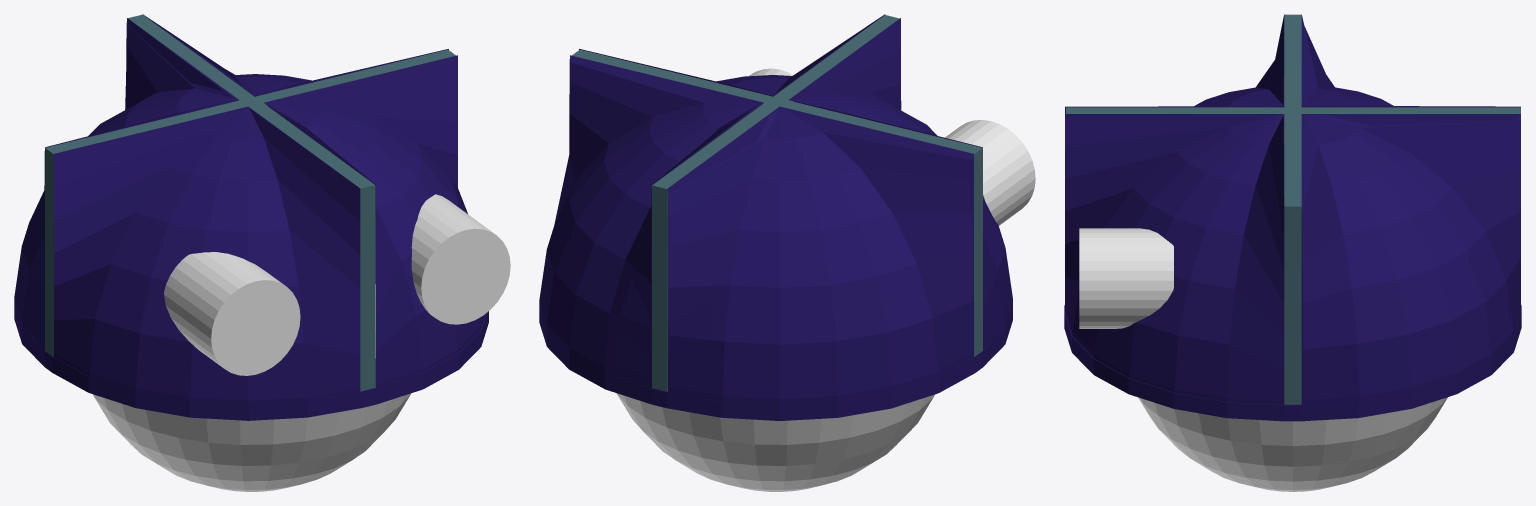
The model's file is tutorialFaceProp.fbx.
3 views of the same model, side by side, from view 1: azimuth 30°, elevation 25°; view 2: azimuth 150°, elevation 25°; view 3: azimuth 270°, elevation 25° (orthographic). The views are drawn at different scales.
Visible parts, largest first — view 1: MaskFace, Cylinder.001, Sphere, Cube.001, Cube; view 2: MaskFace, Sphere, Cube.001, Cylinder.001, Cube; view 3: MaskFace, Sphere, Cube.001, Cylinder.001, Cube.
Boxes of the visible parts, box(x1,y1,x2,y2) form: MaskFace: box(14, 14, 485, 420); Cylinder.001: box(164, 194, 510, 375); Sphere: box(93, 284, 411, 491); Cube.001: box(45, 14, 455, 391); Cube: box(22, 311, 488, 420); MaskFace: box(539, 14, 1012, 420); Sphere: box(616, 393, 934, 491); Cube.001: box(572, 15, 982, 391); Cylinder.001: box(749, 68, 1035, 225); Cube: box(605, 304, 1012, 417); MaskFace: box(1065, 14, 1520, 417); Sphere: box(1138, 397, 1447, 491); Cube.001: box(1066, 14, 1520, 404); Cylinder.001: box(1079, 228, 1173, 328); Cube: box(1064, 304, 1521, 421).
Size of the model in its own units: 5215 by 4600 by 5215.
